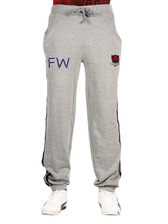clothoes: (39, 3, 123, 190)
shoes: (35, 187, 72, 214), (94, 187, 124, 216)
